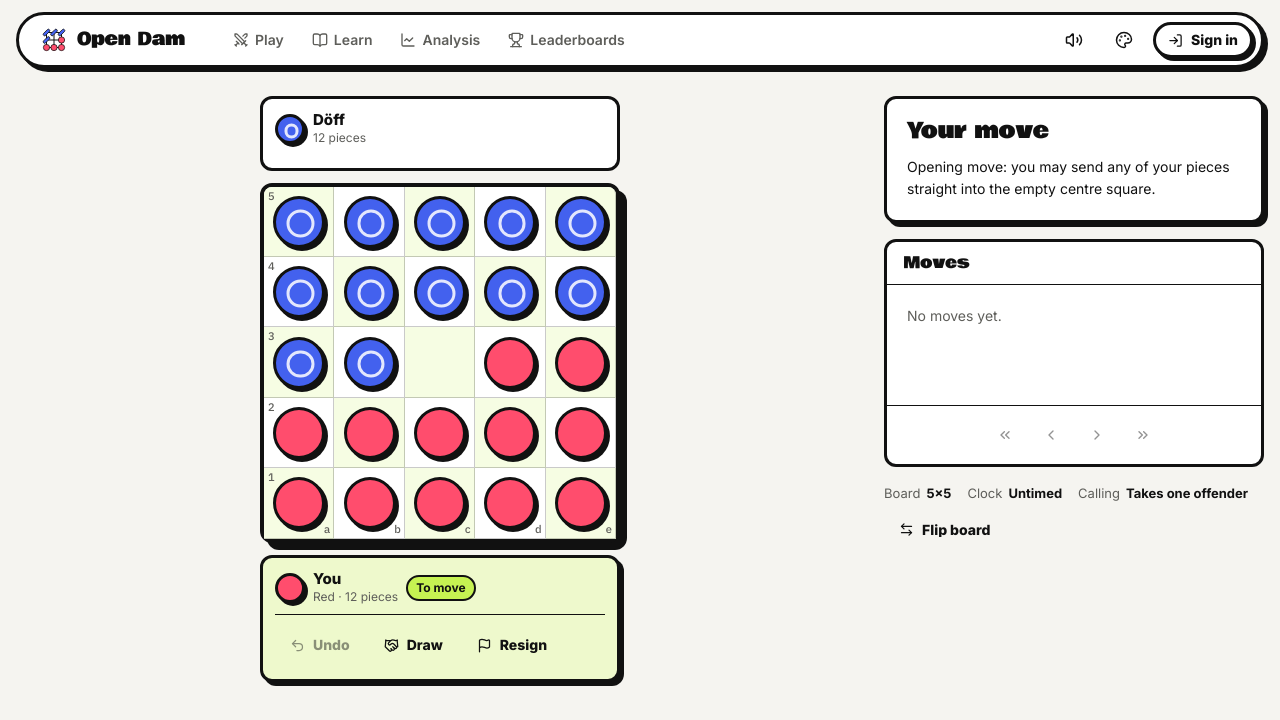
Test: playing against the computer › a premove the reply makes illegal is dropped quietly
expect the table is shown: met, box [264,187,616,539]
Press the mouse on the cell named "c2, Red piece" at coordinates (440, 433), box [405,398,475,468]
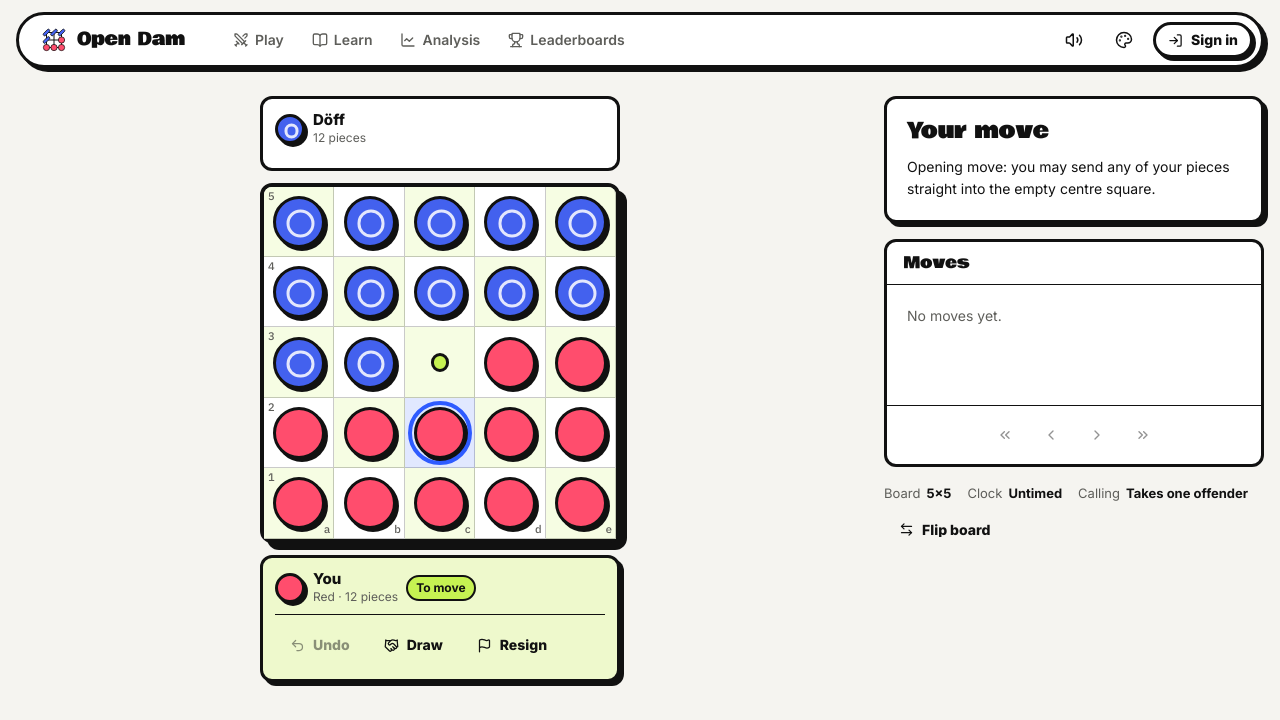
Click the cell named "c3, empty, you can move here" at coordinates (440, 363), box [405,327,475,398]
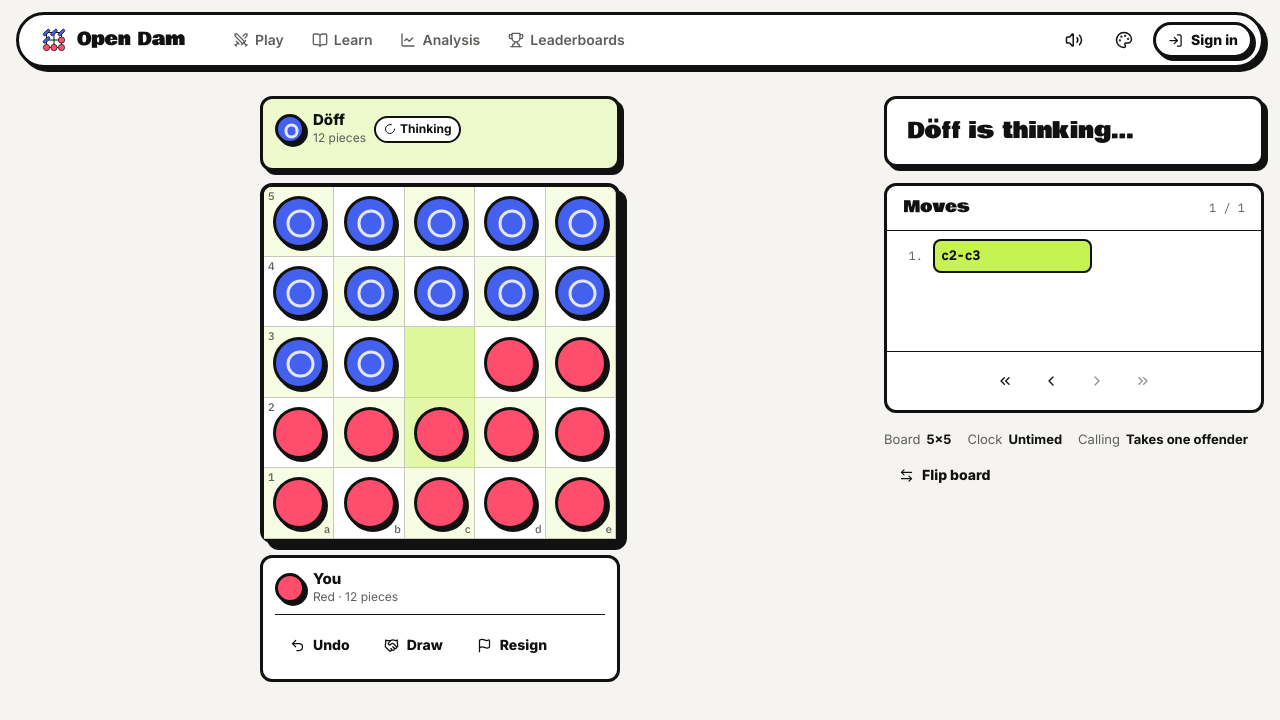
Press the mouse on the cell named "b2, Red piece" at coordinates (370, 433), box [334,398,405,468]
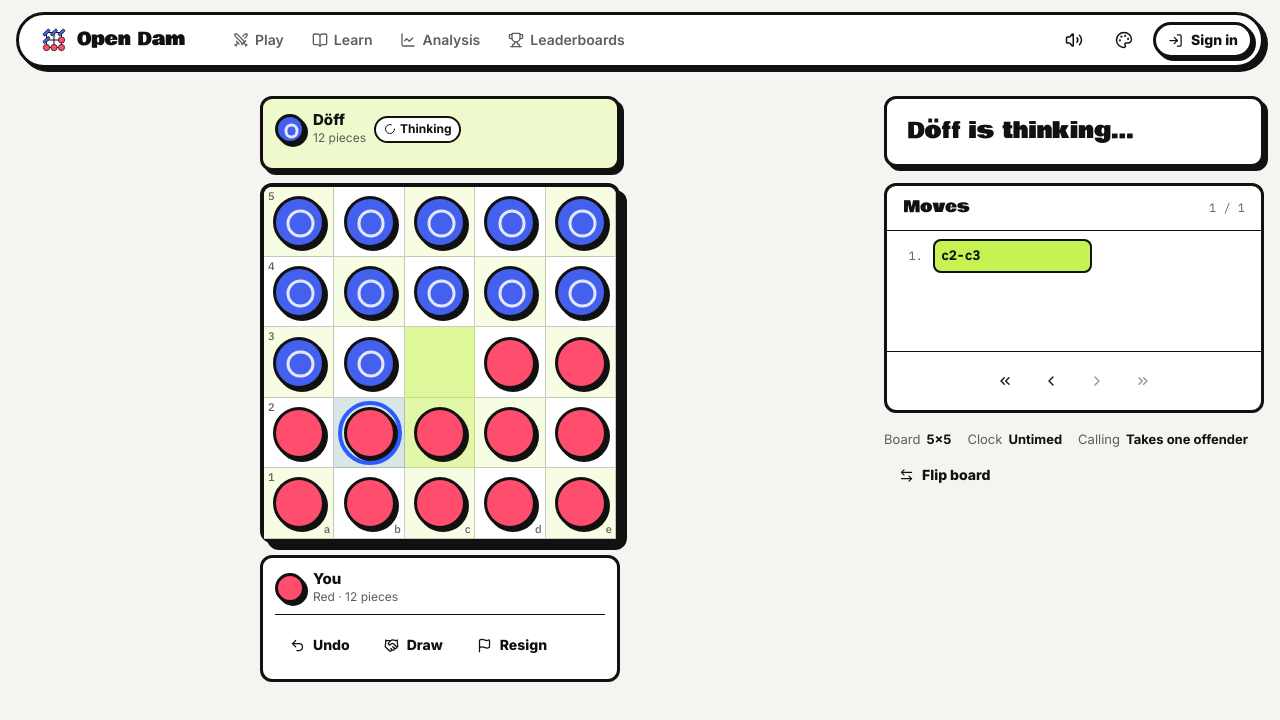
Click the cell named "c2, empty, you can move here, last move" at coordinates (440, 433), box [405,398,475,468]
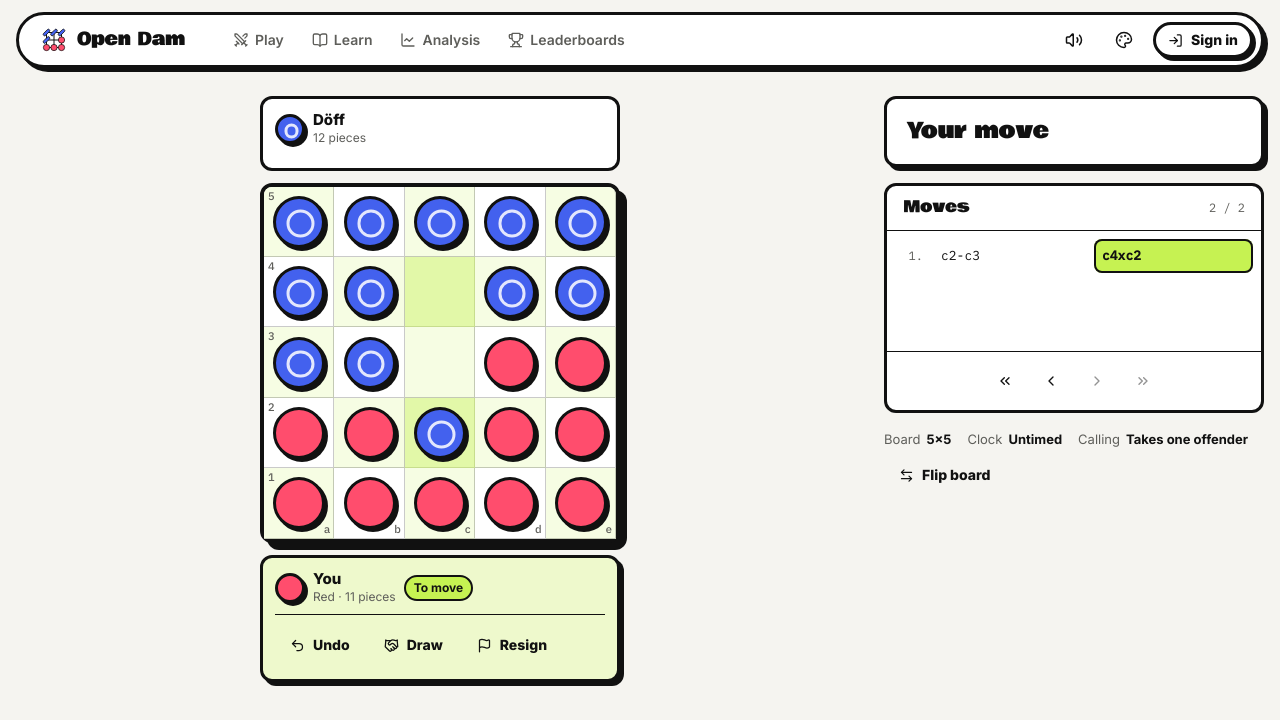
expect the heading "Your move" is shown: met, box [907,114,1049,148]
